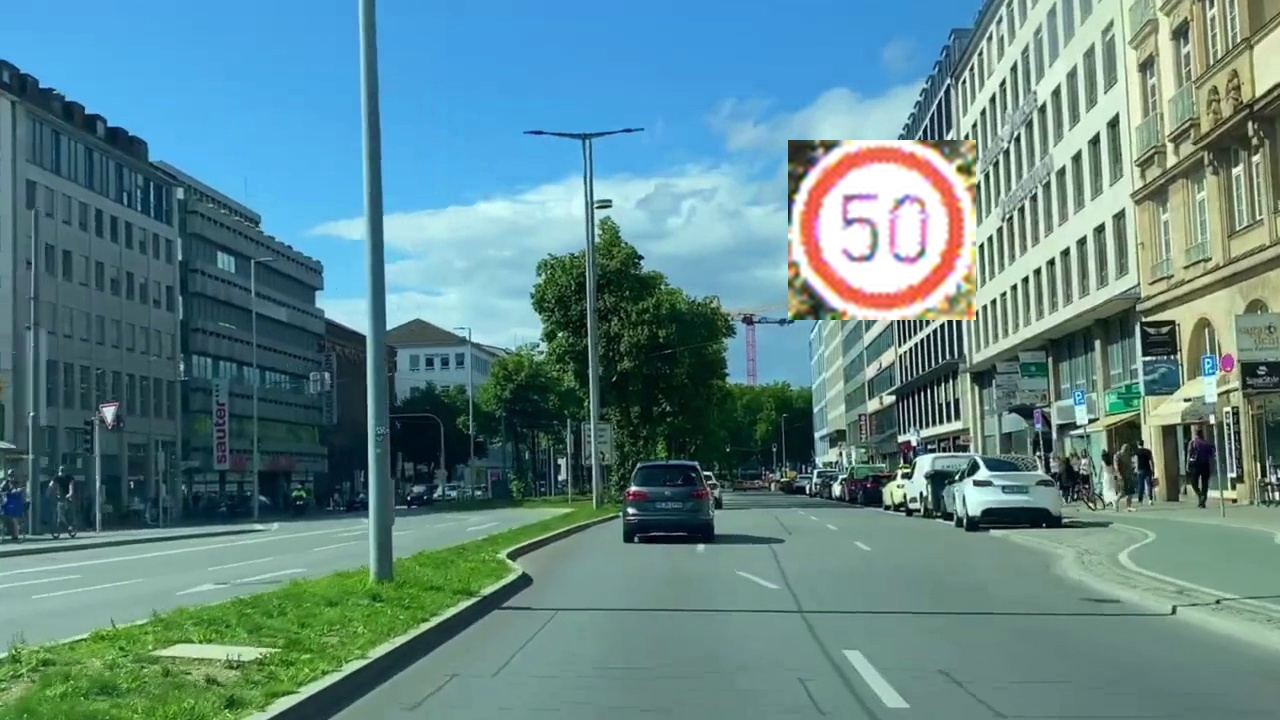Speed 50: (788, 140, 976, 320)
